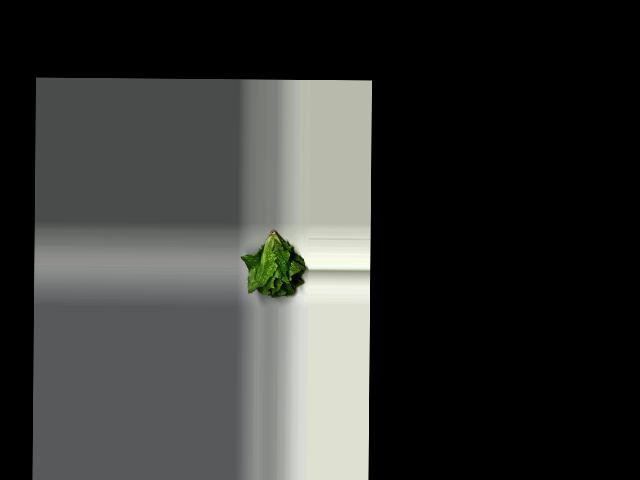lettuce: (242, 225, 310, 300)
